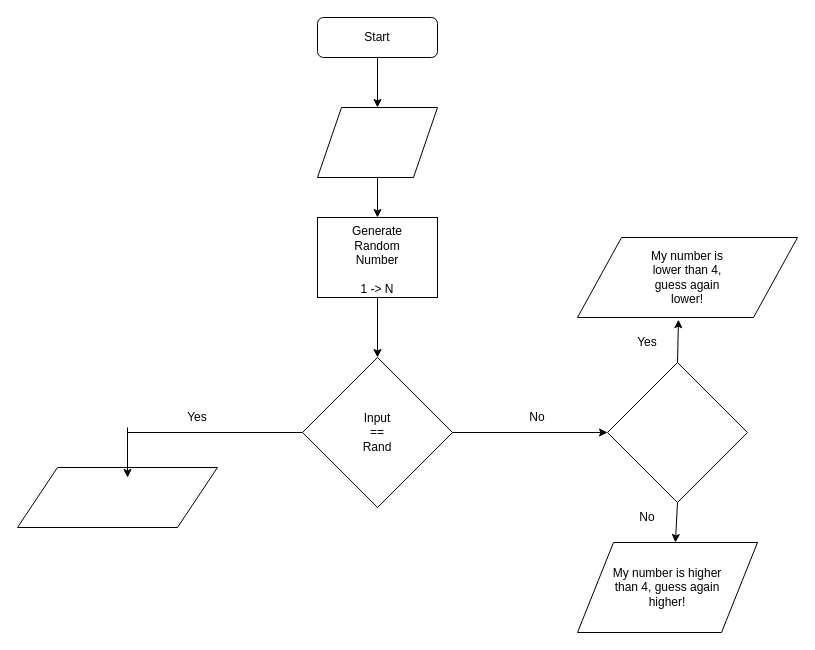
Image size: 815x650. Some labels were removed from this diagram. The centre of each missing label's shape, as x and y in pixels:
Input Number 1 -> N: the point at 377,142
rand < n: the point at 677,432
You are correct - The random number is n: the point at 117,497
